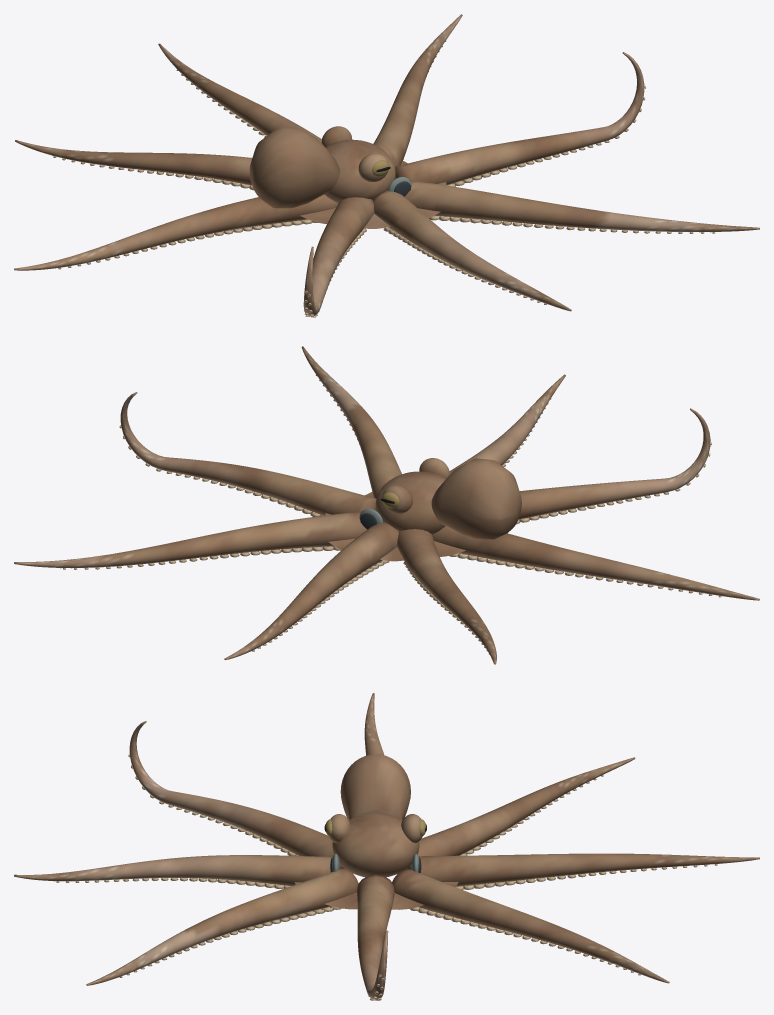
The model's file is octopus_cyanea_hybrid.glb.
3 views of the same model, one above another, from view 1: azimuth 30°, elevation 25°; view 2: azimuth 150°, elevation 25°; view 3: azimuth 270°, elevation 25° (orthographic).
Parts seen in each view (by area): view 1: ContinuousArm01, ContinuousArm00, OvoidMantle12cm, ContinuousArm04, ContinuousArm02, ContinuousArm05, ContinuousArm03, ContinuousArm07, HeadAndArmCrown, ContinuousArm06, DoubleSuckerRows04, DoubleSuckerRows01 (+4 smaller); view 2: ContinuousArm07, ContinuousArm04, ContinuousArm00, OvoidMantle12cm, ContinuousArm06, ContinuousArm03, ContinuousArm05, ContinuousArm01, HeadAndArmCrown, ContinuousArm02, DoubleSuckerRows04, DoubleSuckerRows07 (+3 smaller); view 3: ContinuousArm06, ContinuousArm07, ContinuousArm02, ContinuousArm01, ContinuousArm03, ContinuousArm05, HeadAndArmCrown, OvoidMantle12cm, ContinuousArm00, DoubleSuckerRows07, DoubleSuckerRows01, ShallowInterbrachialWeb (+3 smaller).
Boxes of the visible parts, x1,y1,x2,y2 form: ContinuousArm01: (405, 180, 759, 231); ContinuousArm00: (395, 52, 644, 184); OvoidMantle12cm: (249, 126, 339, 208); ContinuousArm04: (14, 194, 338, 270); ContinuousArm02: (373, 190, 571, 311); ContinuousArm05: (15, 140, 252, 185); ContinuousArm03: (303, 197, 374, 315); ContinuousArm07: (373, 14, 462, 166); HeadAndArmCrown: (325, 139, 395, 203); ContinuousArm06: (158, 43, 321, 142); DoubleSuckerRows04: (55, 219, 318, 269); DoubleSuckerRows01: (429, 215, 714, 233); ContinuousArm07: (14, 511, 367, 567); ContinuousArm04: (432, 526, 759, 600); ContinuousArm00: (120, 392, 376, 515); OvoidMantle12cm: (431, 458, 521, 539); ContinuousArm06: (224, 522, 399, 659); ContinuousArm03: (518, 408, 710, 519); ContinuousArm05: (397, 529, 496, 664); ContinuousArm01: (301, 346, 401, 498); HeadAndArmCrown: (375, 471, 445, 534); ContinuousArm02: (449, 374, 565, 474); DoubleSuckerRows04: (449, 553, 721, 597); DoubleSuckerRows07: (60, 546, 341, 569); ContinuousArm06: (418, 853, 759, 886); ContinuousArm07: (392, 868, 669, 983); ContinuousArm02: (14, 855, 332, 885); ContinuousArm01: (86, 868, 358, 985); ContinuousArm03: (129, 721, 344, 868); ContinuousArm05: (407, 757, 635, 869); HeadAndArmCrown: (332, 813, 419, 877); OvoidMantle12cm: (340, 754, 410, 819); ContinuousArm00: (356, 874, 394, 999); DoubleSuckerRows07: (410, 907, 640, 975); DoubleSuckerRows01: (119, 906, 341, 977); ShallowInterbrachialWeb: (294, 882, 458, 909).
Size of the model in its own units: 1.03 by 0.1496 by 1.06.
